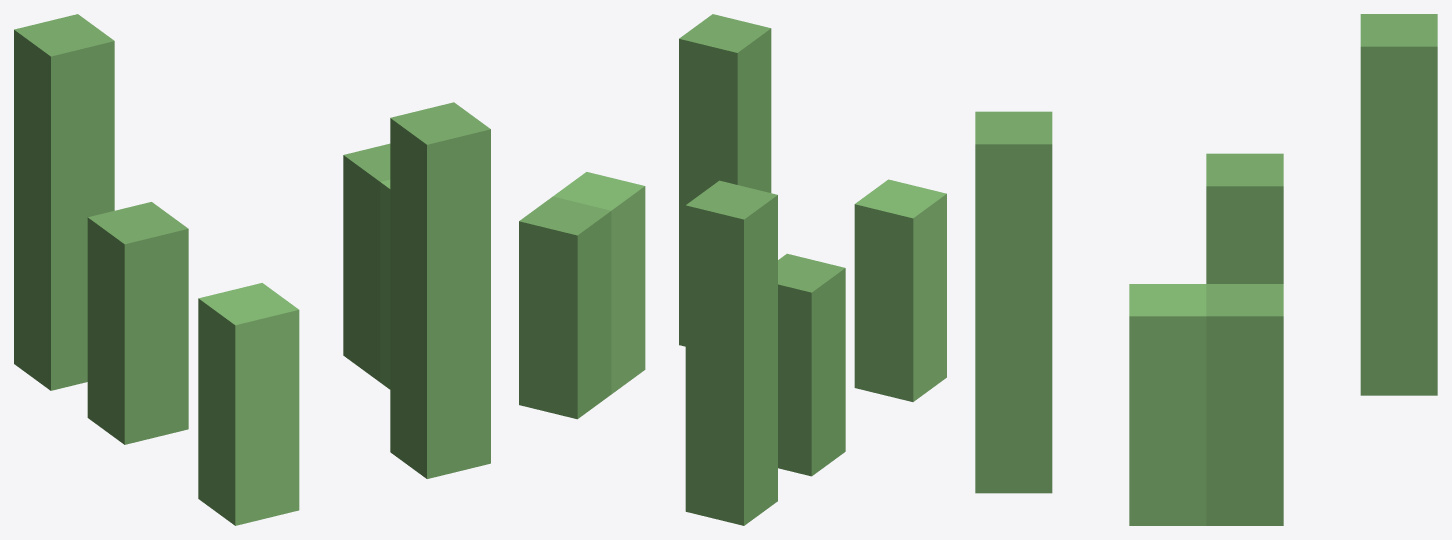
The model's file is trebol_08.glb.
The picture shows the model from 3 angles, left to right: view 1: azimuth 30°, elevation 25°; view 2: azimuth 150°, elevation 25°; view 3: azimuth 270°, elevation 25°; orthographic projection. The views are drawn at different scales.
Parts seen in each view (by area): view 1: trebol_08; view 2: trebol_08; view 3: trebol_08.
Part boxes in pixels (bbox=[...]): trebol_08: bbox=[14, 14, 490, 525]; trebol_08: bbox=[519, 14, 946, 525]; trebol_08: bbox=[975, 14, 1437, 525].
Bounding box in the file's own units: 0.5 × 0.5 × 0.6.
